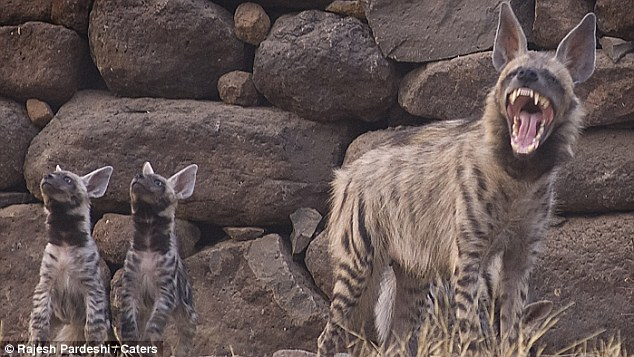hyena: (316, 5, 606, 357), (112, 155, 207, 356), (29, 159, 110, 357)
